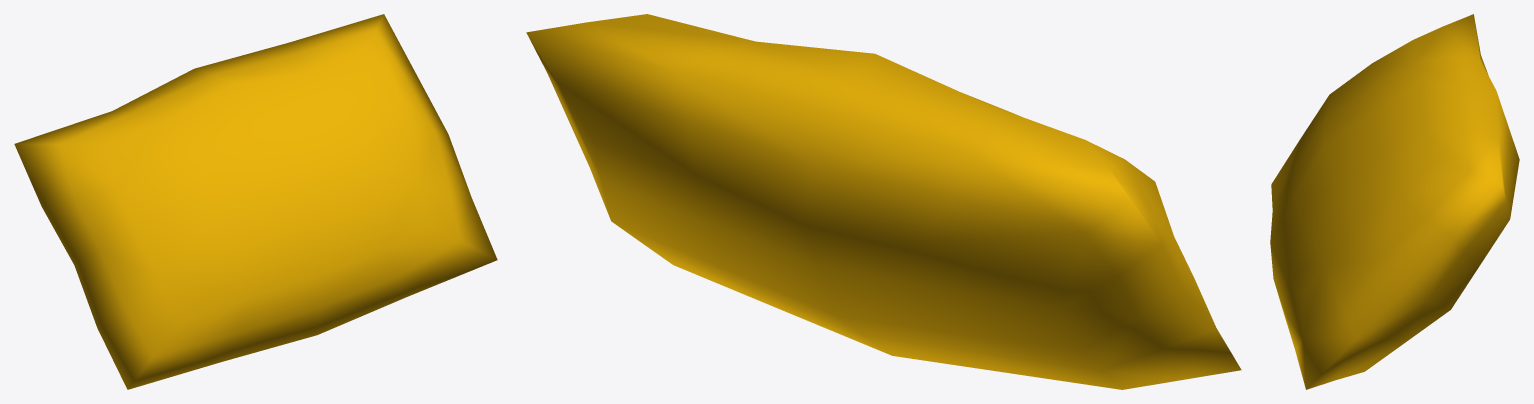
File: oreiller01.fbx
3 renders of one model, left to right at view 1: azimuth 30°, elevation 25°; view 2: azimuth 150°, elevation 25°; view 3: azimuth 270°, elevation 25°, orthographic. The views are drawn at different scales.
Parts seen in each view (by area): view 1: Oreiller; view 2: Oreiller; view 3: Oreiller.
Boxes of the visible parts, <box> form: Oreiller: <box>14,14,497,389</box>; Oreiller: <box>526,14,1241,389</box>; Oreiller: <box>1270,14,1519,389</box>.
Size of the model in its own units: 0.6024 by 0.3164 by 0.3032.
